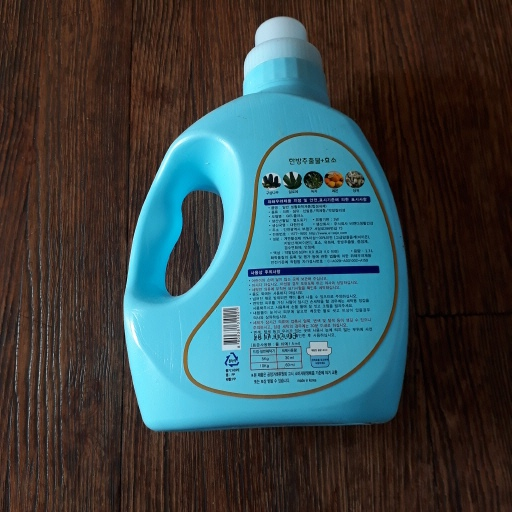Plastic_1: (125, 15, 408, 429)
